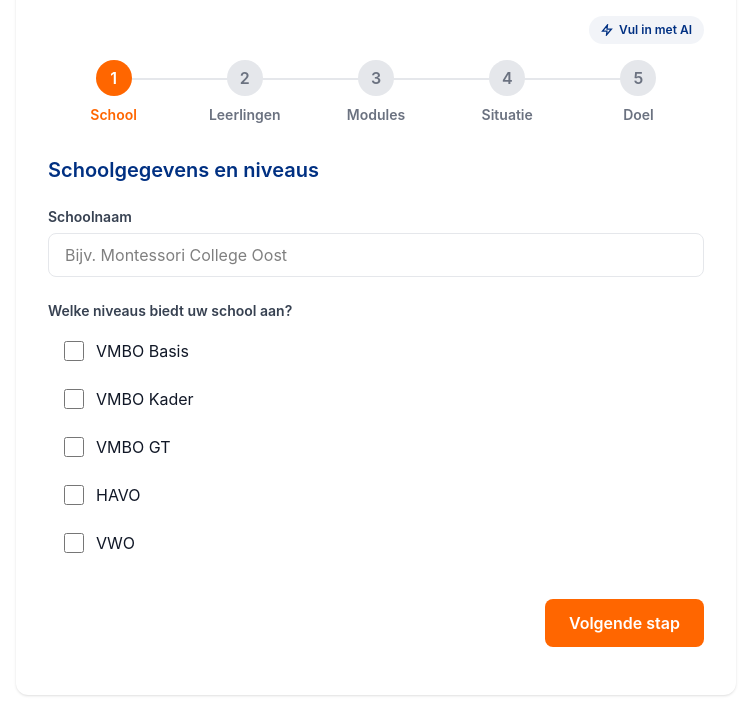
Scenario: Wizard Navigation › clicking a completed step in the progress bar navigates back
// Fill school name
Type "Test School" into the field labelled "Schoolnaam" at (376, 255), box left=48, top=233, right=704, bottom=277
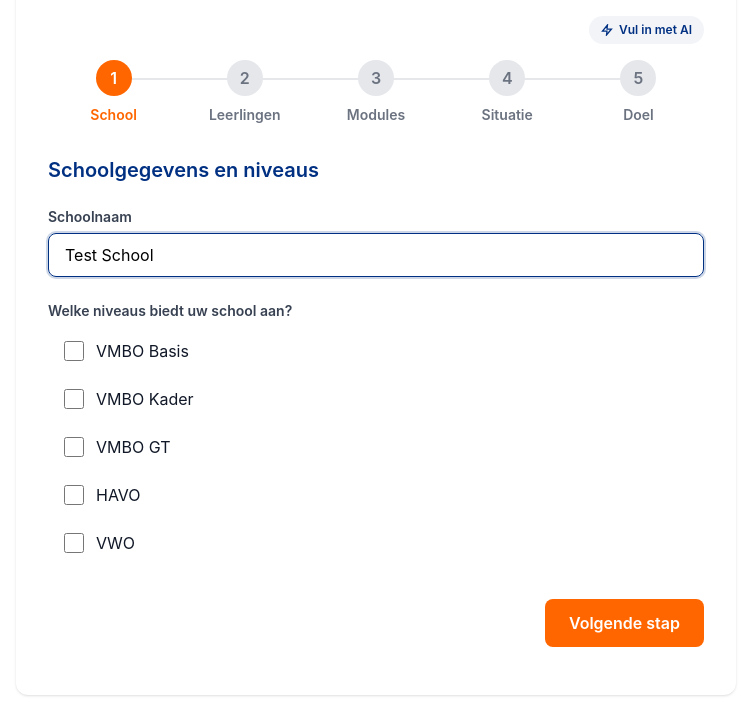
// Complete step 1: select HAVO and navigate forward
Click the checkbox labelled "HAVO" at (74, 495), box left=64, top=485, right=84, bottom=505
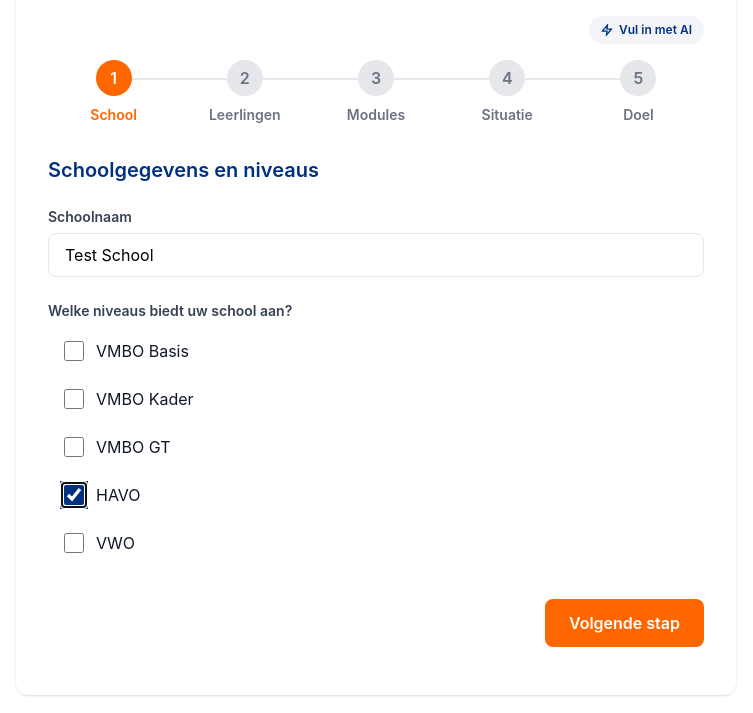
Click the button "Volgende stap" at (624, 623), box left=545, top=599, right=704, bottom=647
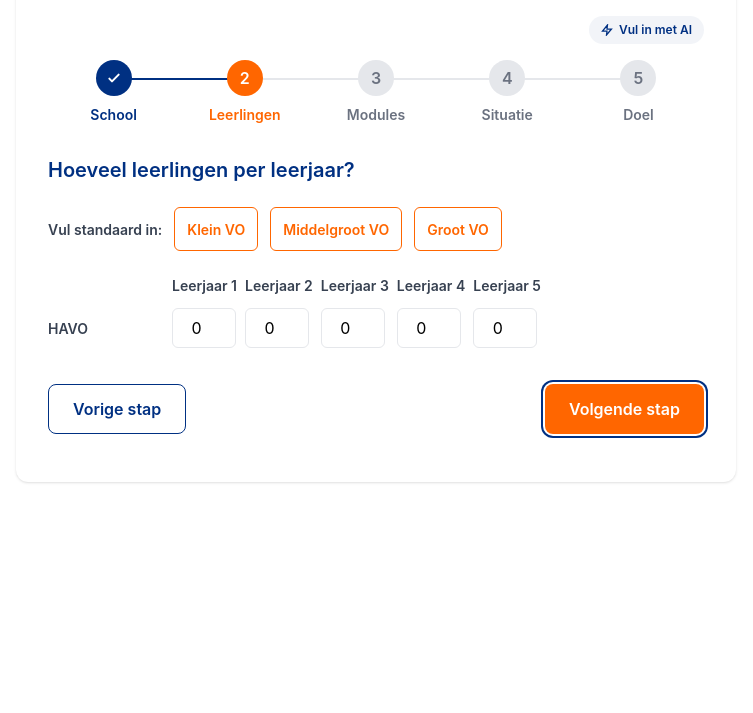
expect the heading "Hoeveel leerlingen per leerjaar?" is shown: met, box left=48, top=158, right=355, bottom=182
// Click completed step 1 in progress bar
Click the button named "Stap 1: School (voltooid)" at (114, 78), box left=96, top=60, right=132, bottom=96
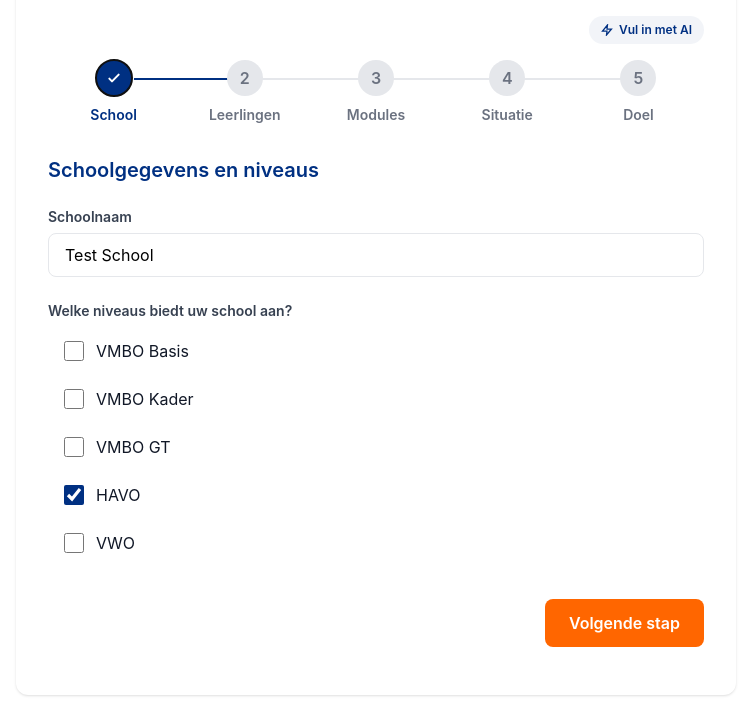
expect the heading "Schoolgegevens en niveaus" is shown: met, box left=48, top=158, right=319, bottom=182
